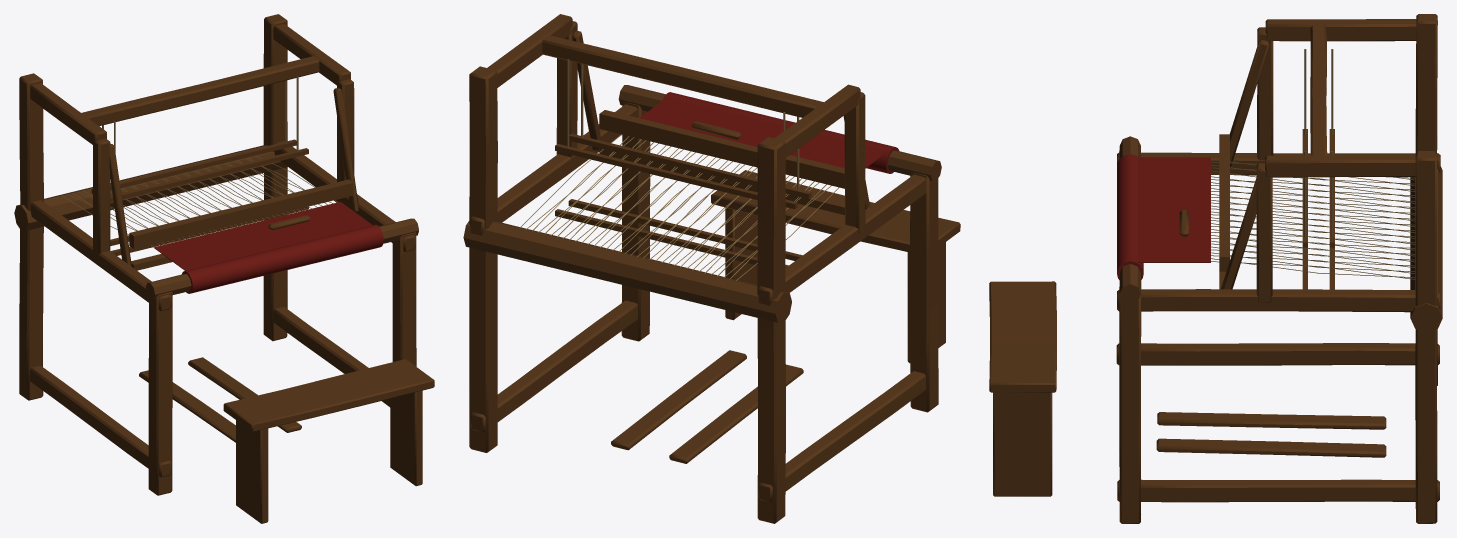
The model's file is webstuhl.glb.
The picture shows the model from 3 angles, left to right: view 1: azimuth 30°, elevation 25°; view 2: azimuth 150°, elevation 25°; view 3: azimuth 270°, elevation 25°; orthographic projection. The views are drawn at different scales.
Visible parts, largest first — view 1: webstuhl; view 2: webstuhl; view 3: webstuhl.
Part boxes in pixels (x1,y1,x2,y2): webstuhl: (14, 14, 434, 523); webstuhl: (463, 14, 960, 523); webstuhl: (989, 14, 1442, 523).
Size of the model in its own units: 1.3 by 1.5 by 1.68.
